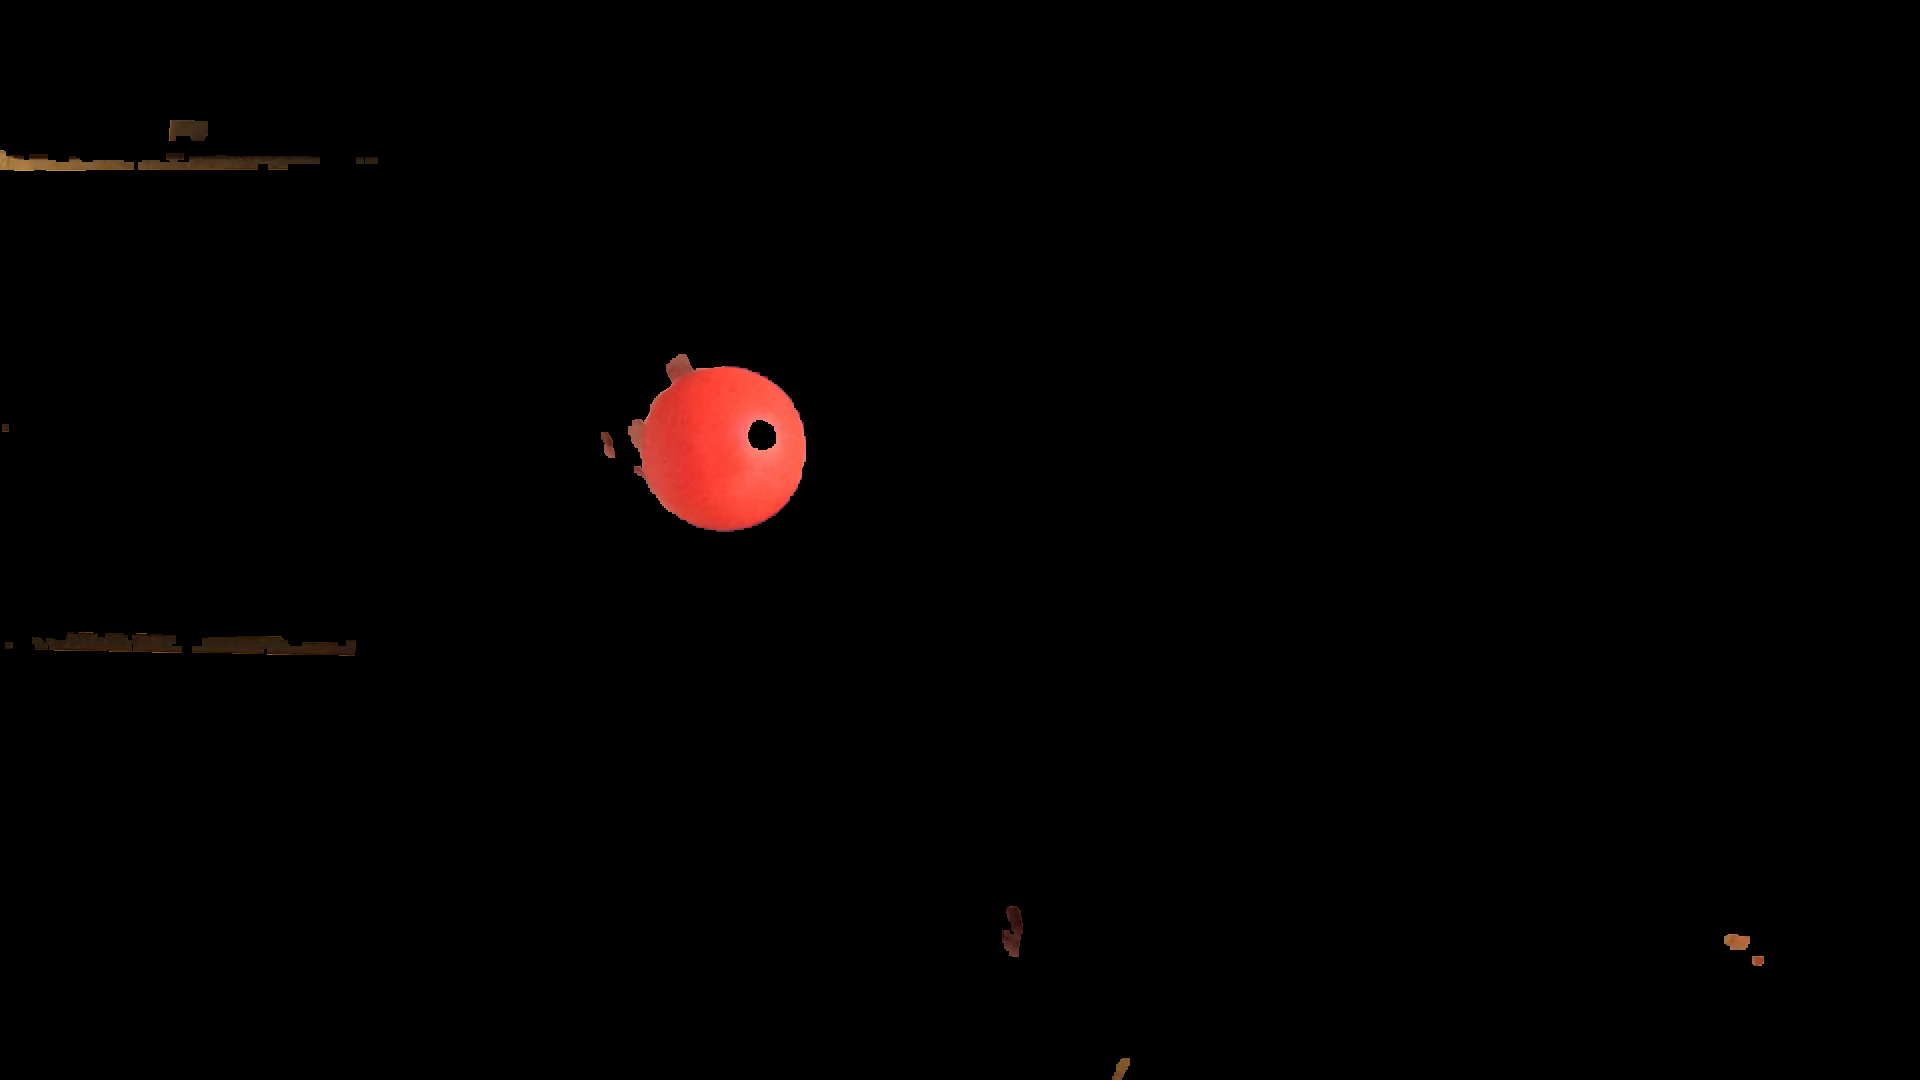Ball: (641, 365, 807, 527)
